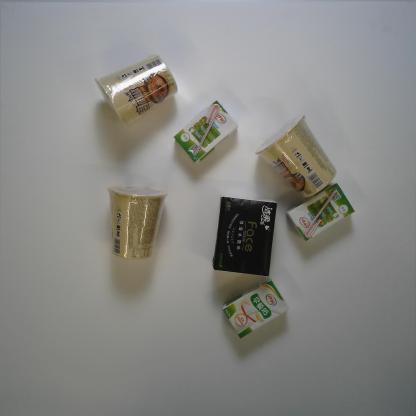Instant Noodles: (255, 113, 337, 198), (95, 53, 178, 132), (106, 186, 168, 262)
Milk: (222, 278, 290, 339), (286, 182, 355, 242), (174, 100, 238, 163)
Tissue: (212, 195, 278, 277)
